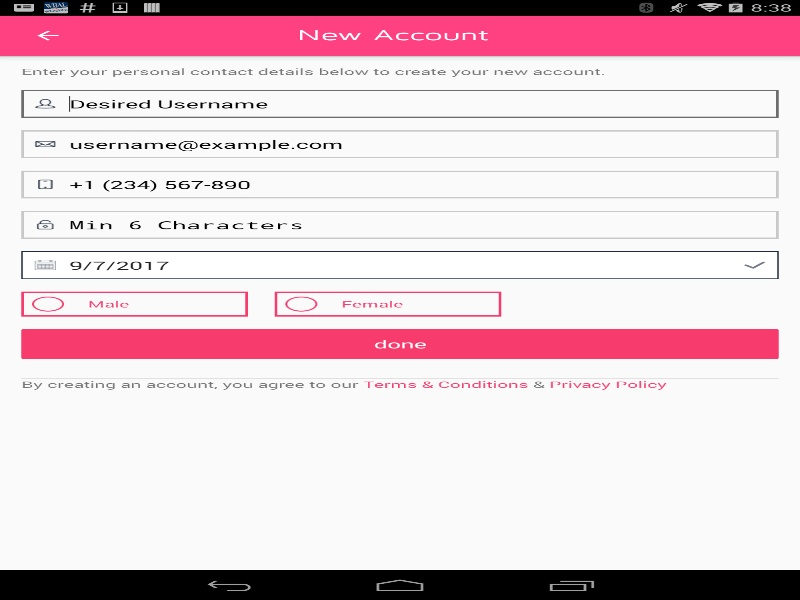Button: (21, 329, 778, 359), (10, 15, 85, 55)
Input: (21, 130, 778, 158), (21, 170, 778, 198), (21, 210, 778, 238), (21, 251, 778, 279), (21, 90, 778, 117)
